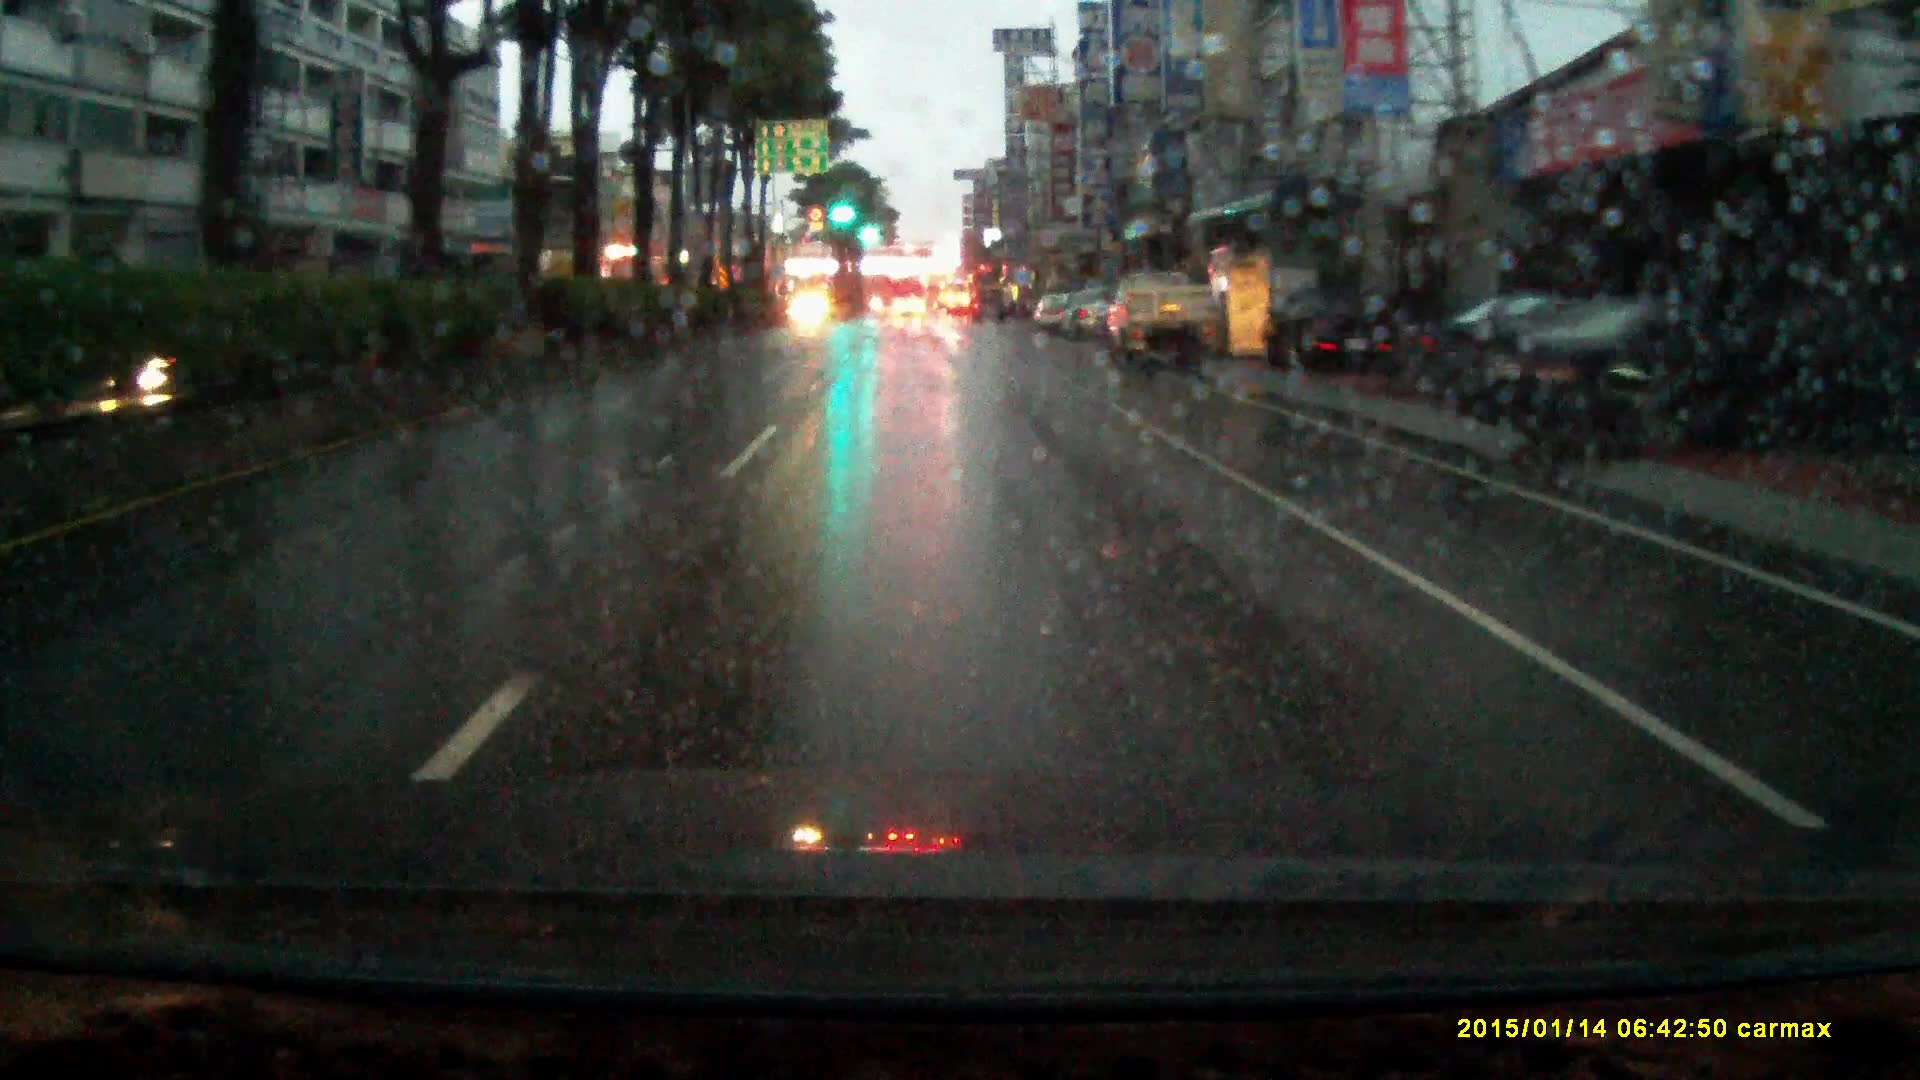vehicle: (1451, 298, 1886, 467), (1414, 298, 1617, 404), (1104, 268, 1218, 369), (1266, 287, 1396, 375), (1062, 287, 1116, 342), (790, 290, 833, 332), (1033, 291, 1075, 334), (969, 287, 1007, 324), (891, 295, 927, 322), (926, 276, 947, 314)
